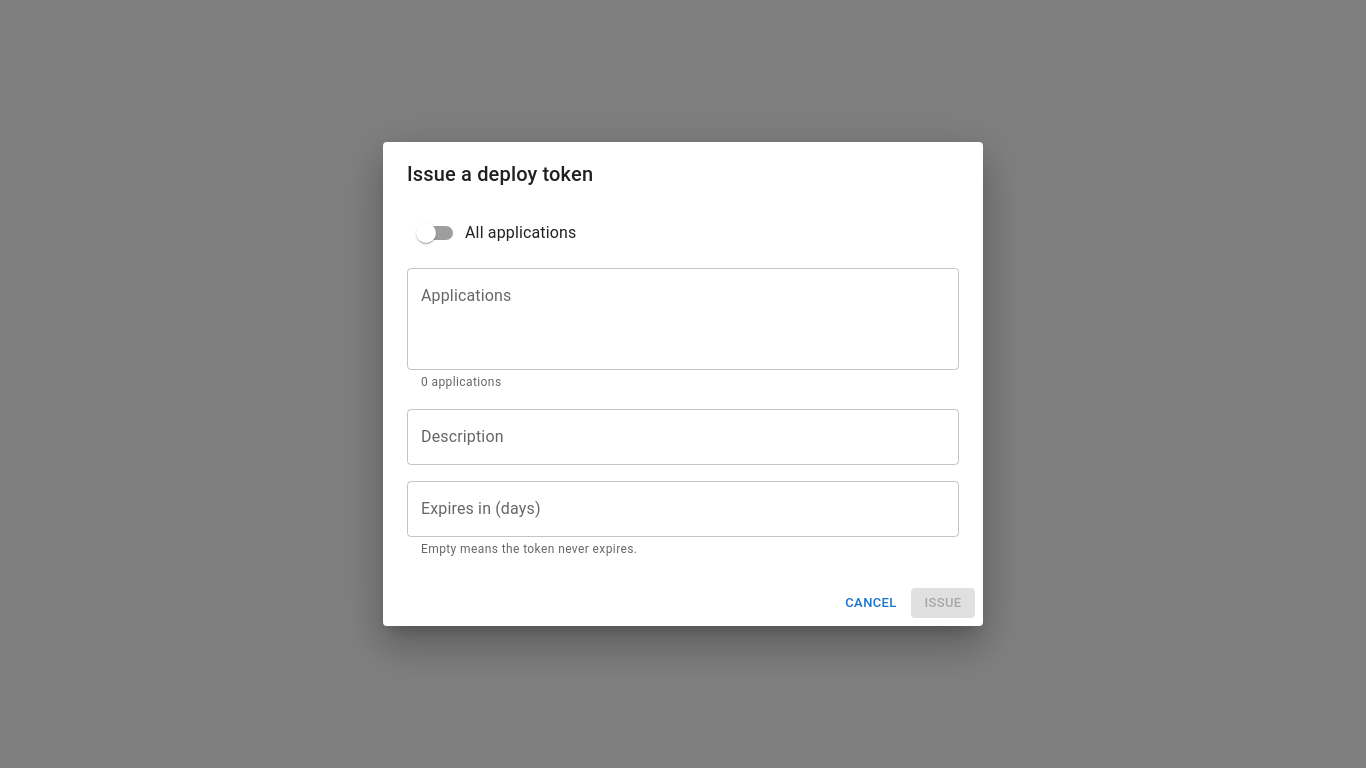
IssueTokenDialog › disables the application list under the wildcard
Click the switch labelled "All applications".
click(496, 233)  # box [416,223,576,243]
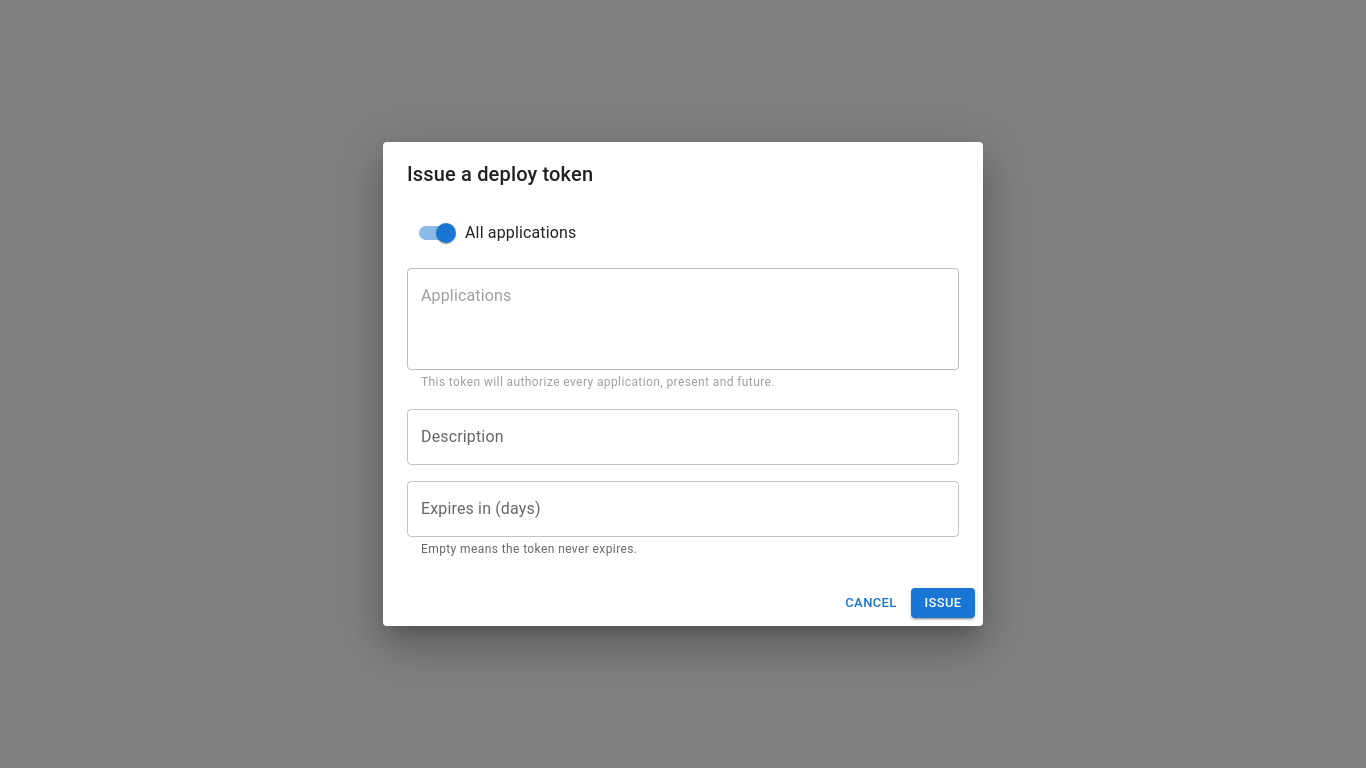
Expected: the text box labelled "Applications" is disabled, [421,284,945,353]
Expected: the button "Issue" is enabled, [911,588,975,618]
